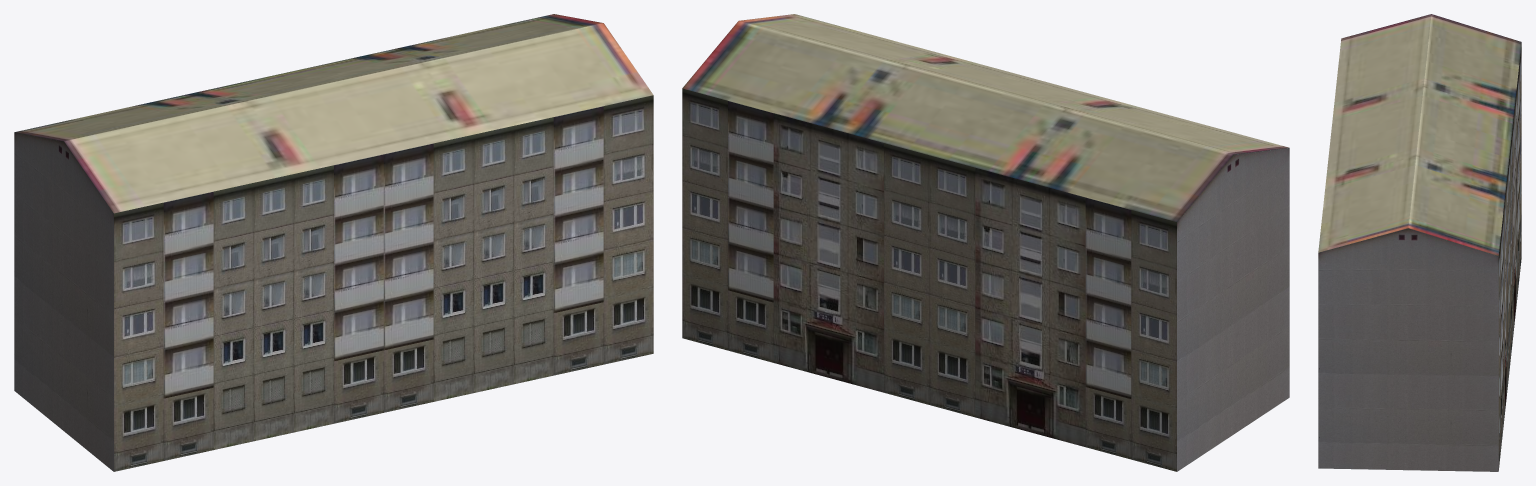
The model's file is maja.dae.
The picture shows the model from 3 angles, left to right: view 1: azimuth 30°, elevation 25°; view 2: azimuth 150°, elevation 25°; view 3: azimuth 270°, elevation 25°; orthographic projection. The views are drawn at different scales.
Visible parts, largest first — view 1: G-__555564; view 2: G-__555564; view 3: G-__555564.
Part boxes in pixels (<box>): G-__555564: <box>14,14,653,471</box>; G-__555564: <box>682,14,1289,471</box>; G-__555564: <box>1318,14,1521,471</box>.
Bounding box in the file's own units: 34.23 × 13.52 × 17.74.
